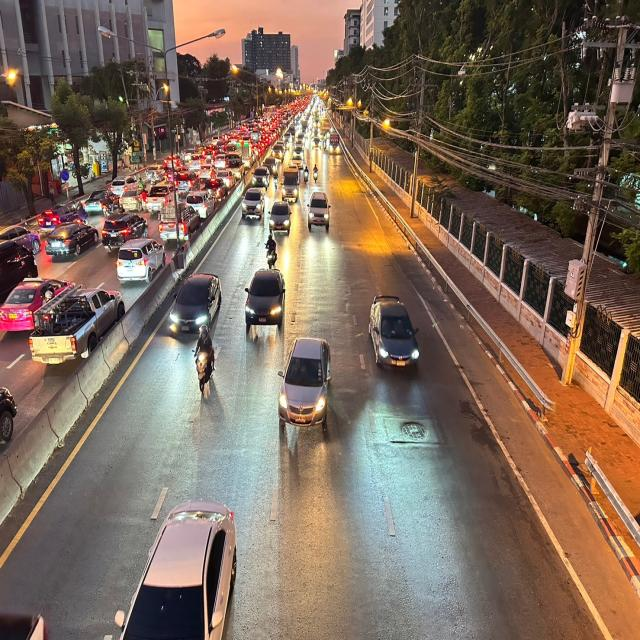bike: (189, 319, 220, 396)
car: (272, 329, 338, 442)
